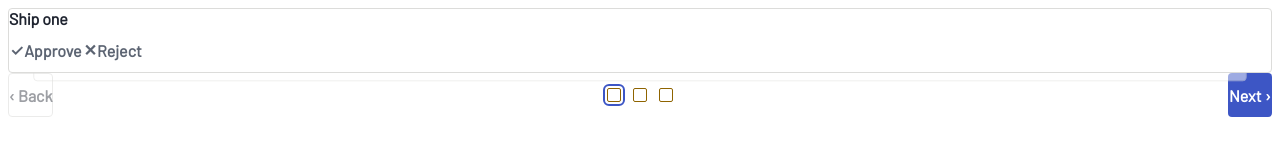
Test: FocusDeck navigation › jumps to a step when its dot is tapped
The width and height of the screenshot is (1280, 160).
What coordinates should you click on to do the following:
click the 3rd button with class "focus-dot"
I would click on:
 (666, 95)
Its box is [653,82,679,108].
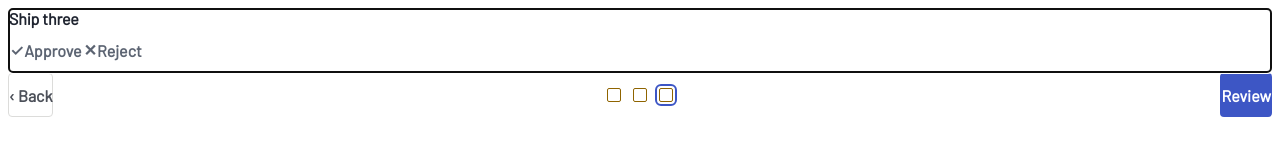
expect the heading with class "focus-question" reads "Ship three": met, box [9,9,79,28]
